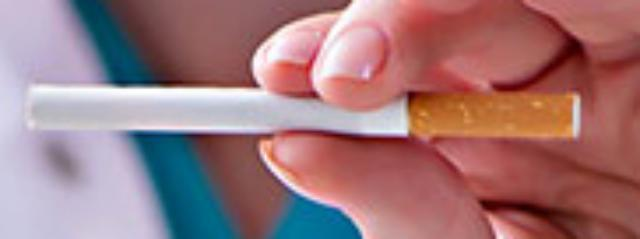Smoking: (21, 81, 576, 133)
